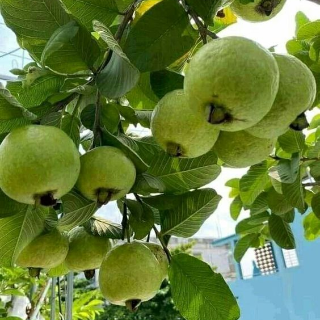oi: (183, 36, 280, 132), (1, 125, 80, 208), (100, 240, 161, 311), (79, 145, 136, 208)
